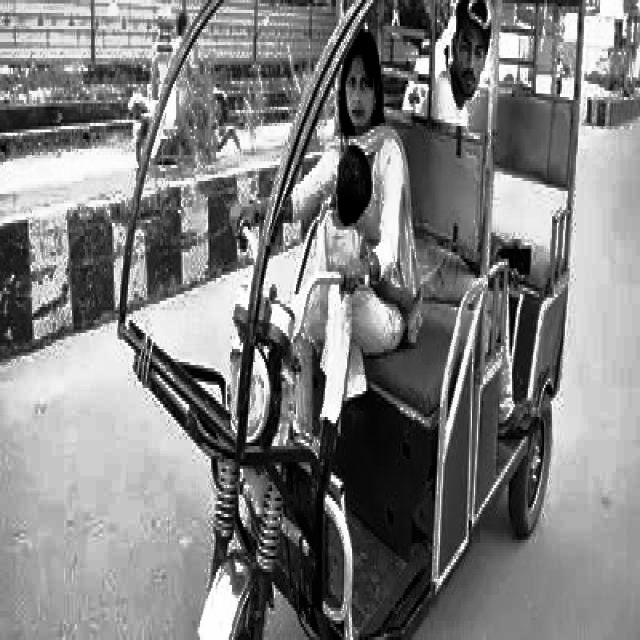Toto: (117, 0, 587, 640)
